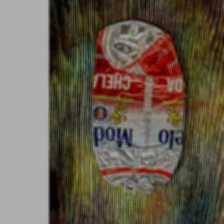can: (84, 16, 189, 200)
